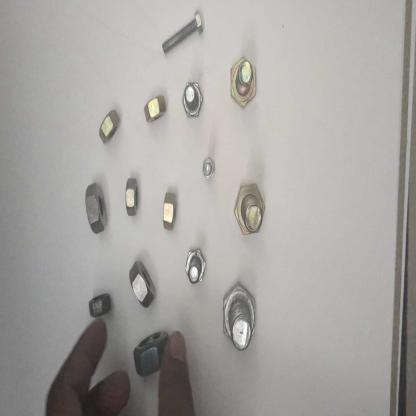Bolts: (230, 165, 272, 258), (220, 276, 260, 355), (226, 45, 264, 120), (151, 10, 212, 56), (181, 247, 210, 284), (180, 80, 206, 121), (202, 148, 218, 186)
NUTS: (128, 331, 175, 381), (82, 177, 115, 236), (129, 256, 157, 316), (120, 174, 151, 219), (96, 103, 126, 149), (160, 186, 182, 240), (142, 90, 170, 128), (85, 288, 113, 324)
